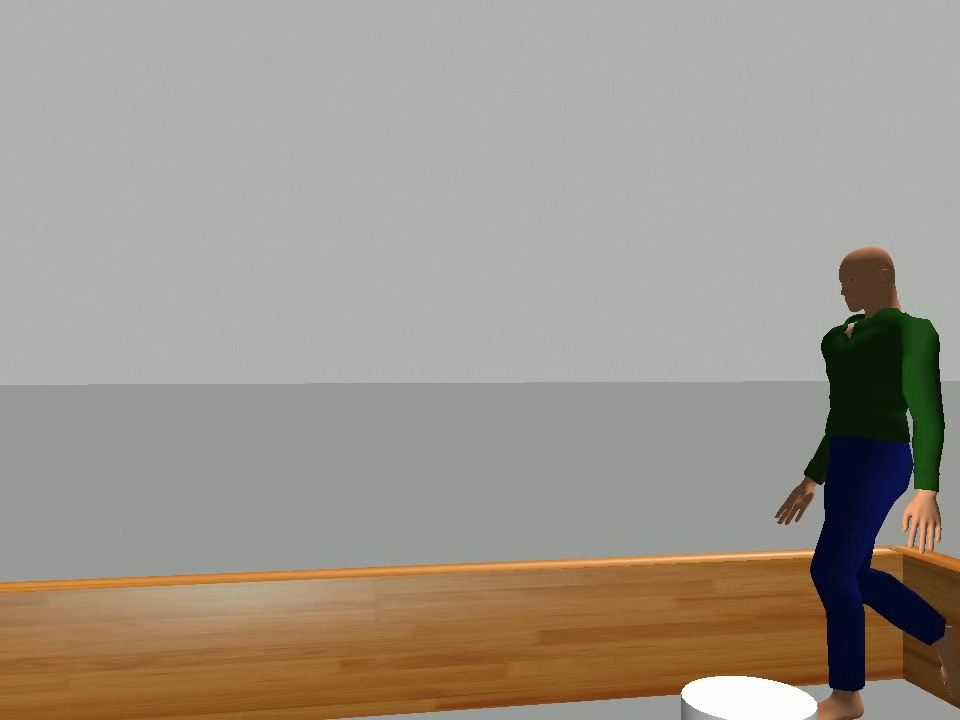person: (772, 244, 960, 720)
